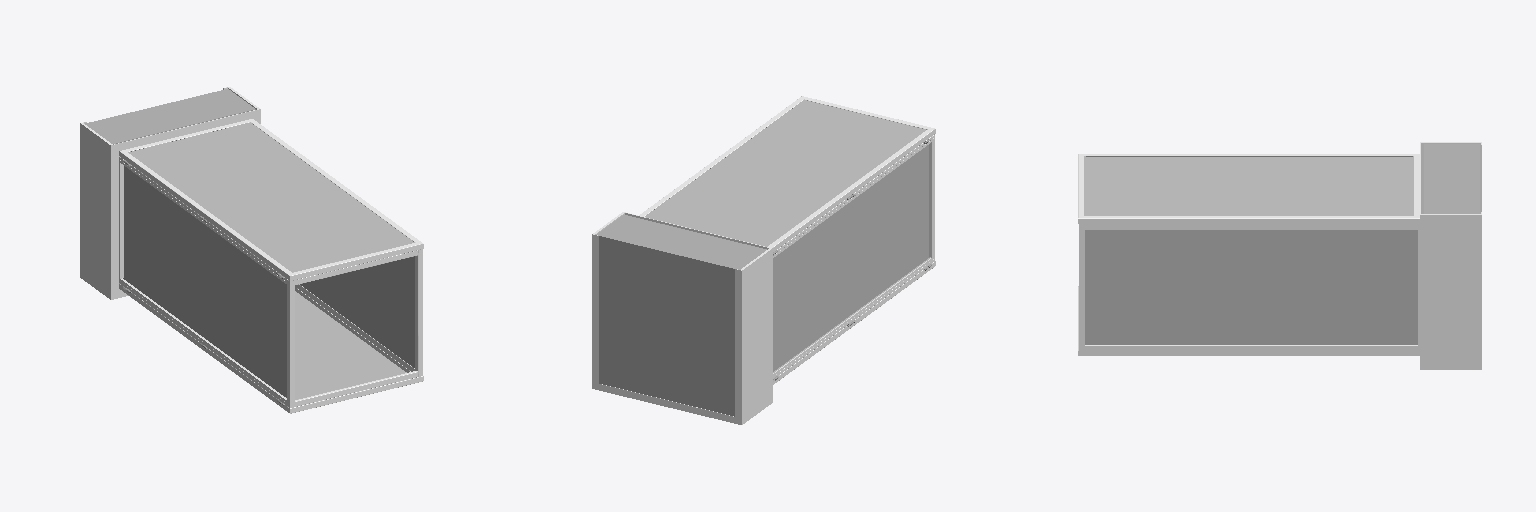
File: 3_Vitrine.obj
3 views of the same model, side by side, from view 1: azimuth 30°, elevation 25°; view 2: azimuth 150°, elevation 25°; view 3: azimuth 270°, elevation 25° (orthographic).
Parts seen in each view (by area): view 1: Volumenkörper1:41, Volumenkörper1:49, Volumenkörper1:17, Volumenkörper1:26, Volumenkörper1:50, Volumenkörper1:16, Volumenkörper1:33, Solid1:5, Volumenkörper1:36, Volumenkörper1:15, Volumenkörper1:34, Volumenkörper1 (+8 smaller); view 2: Volumenkörper1:16, Volumenkörper1:41, Volumenkörper1:49, Volumenkörper1:50, Volumenkörper1:33, Volumenkörper1:34, Volumenkörper1:18, Solid1:4, Volumenkörper1:5, Solid1:3, Solid1:2, Volumenkörper1:10; view 3: Volumenkörper1:17, Volumenkörper1:41, Volumenkörper1:50, Volumenkörper1:16, Volumenkörper1:34, Volumenkörper1:19, Volumenkörper1:13, Volumenkörper1:14, Volumenkörper1:3, Volumenkörper1:4, Volumenkörper1:33.
Boxes of the visible parts, <box> form: Volumenkörper1:41: <box>128,122,414,272</box>; Volumenkörper1:49: <box>123,166,286,397</box>; Volumenkörper1:17: <box>300,256,414,367</box>; Volumenkörper1:26: <box>295,291,406,399</box>; Volumenkörper1:50: <box>80,87,260,299</box>; Volumenkörper1:16: <box>85,89,255,144</box>; Volumenkörper1:33: <box>119,151,291,280</box>; Solid1:5: <box>113,109,258,156</box>; Volumenkörper1:36: <box>290,243,423,280</box>; Volumenkörper1:15: <box>415,249,422,376</box>; Volumenkörper1:34: <box>251,119,421,242</box>; Volumenkörper1: <box>288,280,294,407</box>; Volumenkörper1:16: <box>597,215,766,416</box>; Volumenkörper1:41: <box>645,100,925,246</box>; Volumenkörper1:49: <box>773,145,929,371</box>; Volumenkörper1:50: <box>592,212,772,424</box>; Volumenkörper1:33: <box>768,129,935,251</box>; Volumenkörper1:34: <box>639,96,803,216</box>; Volumenkörper1:18: <box>773,261,935,384</box>; Solid1:4: <box>735,269,739,421</box>; Volumenkörper1:5: <box>773,257,933,376</box>; Solid1:3: <box>594,233,598,383</box>; Solid1:2: <box>594,383,739,421</box>; Volumenkörper1:10: <box>929,141,933,257</box>; Volumenkörper1:17: <box>1085,230,1417,344</box>; Volumenkörper1:41: <box>1084,156,1413,215</box>; Volumenkörper1:50: <box>1420,142,1481,369</box>; Volumenkörper1:16: <box>1424,144,1479,213</box>; Volumenkörper1:34: <box>1078,216,1419,223</box>; Volumenkörper1:19: <box>1078,351,1419,355</box>; Volumenkörper1:13: <box>1079,348,1419,350</box>; Volumenkörper1:14: <box>1079,224,1419,226</box>; Volumenkörper1:3: <box>1082,227,1419,229</box>; Volumenkörper1:4: <box>1082,345,1419,347</box>; Volumenkörper1:33: <box>1081,154,1416,156</box>.
Size of the model in its own units: 986 by 973 by 2302.